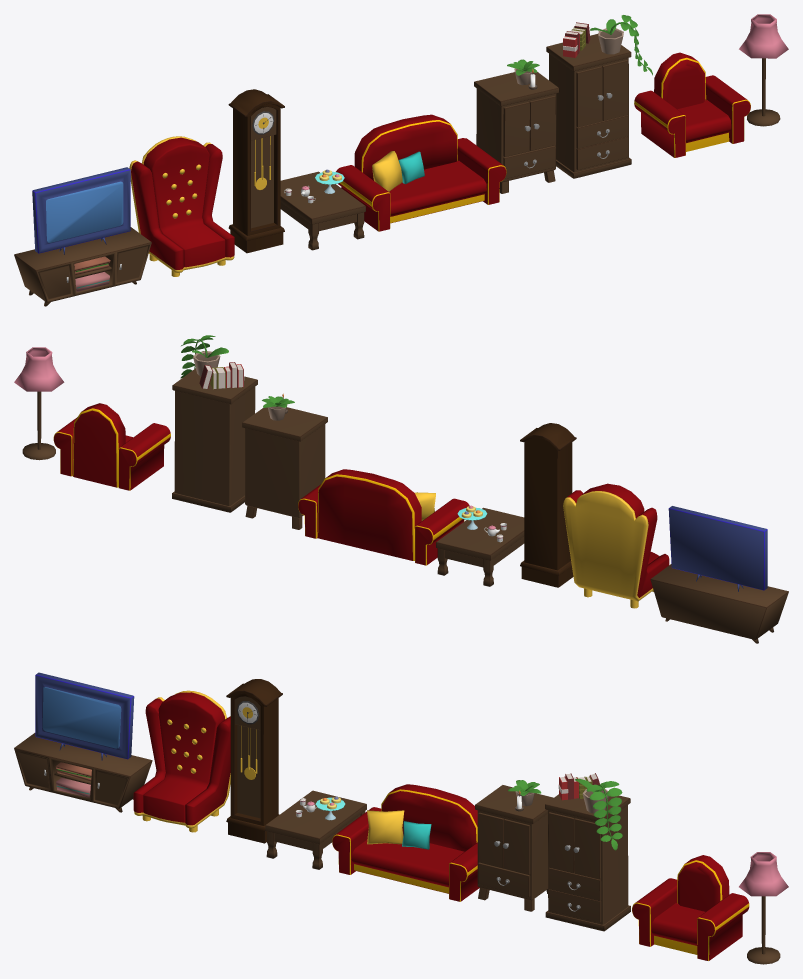
File: Living_Area.fbx
3 renders of one model, top to bottom at view 1: azimuth 30°, elevation 25°; view 2: azimuth 150°, elevation 25°; view 3: azimuth 330°, elevation 25°, orthographic.
Visible parts, largest first — view 1: Tv_Table, Sofa_01, Sofa_03, cupboard_01, Sofa_02, Old_clock_1, cupboard_02, Table, Lamp_01, Pot_02, Cushion_02, Book (+1 smaller); view 2: Tv_Table, Sofa_01, cupboard_01, Sofa_03, cupboard_02, Old_clock_1, Sofa_02, Table, Lamp_01, Pot_02, Book; view 3: Tv_Table, Sofa_03, Sofa_01, cupboard_01, Sofa_02, Old_clock_1, cupboard_02, Table, Lamp_01, Pot_02, Cushion_02, Cushion_01 (+1 smaller).
Part boxes in pixels (left/top/right/bottom): Tv_Table: left=14, top=167, right=151, bottom=306; Sofa_01: left=336, top=114, right=506, bottom=231; Sofa_03: left=129, top=136, right=234, bottom=276; cupboard_01: left=546, top=34, right=631, bottom=178; Sofa_02: left=634, top=52, right=750, bottom=157; Old_clock_1: left=228, top=89, right=284, bottom=253; cupboard_02: left=474, top=72, right=559, bottom=193; Table: left=280, top=171, right=365, bottom=250; Lamp_01: left=739, top=14, right=788, bottom=126; Pot_02: left=590, top=15, right=652, bottom=75; Cushion_02: left=372, top=151, right=402, bottom=191; Book: left=563, top=22, right=590, bottom=57; Tv_Table: left=650, top=506, right=788, bottom=643; Sofa_01: left=298, top=469, right=469, bottom=565; cupboard_01: left=172, top=368, right=257, bottom=512; Sofa_03: left=563, top=483, right=669, bottom=608; cupboard_02: left=242, top=407, right=327, bottom=529; Old_clock_1: left=520, top=423, right=576, bottom=587; Sofa_02: left=53, top=403, right=170, bottom=490; Table: left=436, top=507, right=524, bottom=586; Lamp_01: left=14, top=347, right=64, bottom=460; Pot_02: left=180, top=335, right=228, bottom=378; Book: left=199, top=362, right=244, bottom=389; Tv_Table: left=14, top=672, right=152, bottom=812; Sofa_03: left=133, top=690, right=230, bottom=832; Sofa_01: left=332, top=784, right=479, bottom=901; cupboard_01: left=545, top=794, right=630, bottom=931; Sofa_02: left=632, top=855, right=749, bottom=960; Old_clock_1: left=226, top=679, right=282, bottom=843; cupboard_02: left=475, top=785, right=553, bottom=911; Table: left=265, top=790, right=366, bottom=869; Lamp_01: left=739, top=852, right=788, bottom=964; Pot_02: left=574, top=778, right=622, bottom=850; Cushion_02: left=367, top=810, right=404, bottom=844; Cushion_01: left=402, top=821, right=431, bottom=849.
Bounding box in the file's own units: 1366 × 264 × 148.
